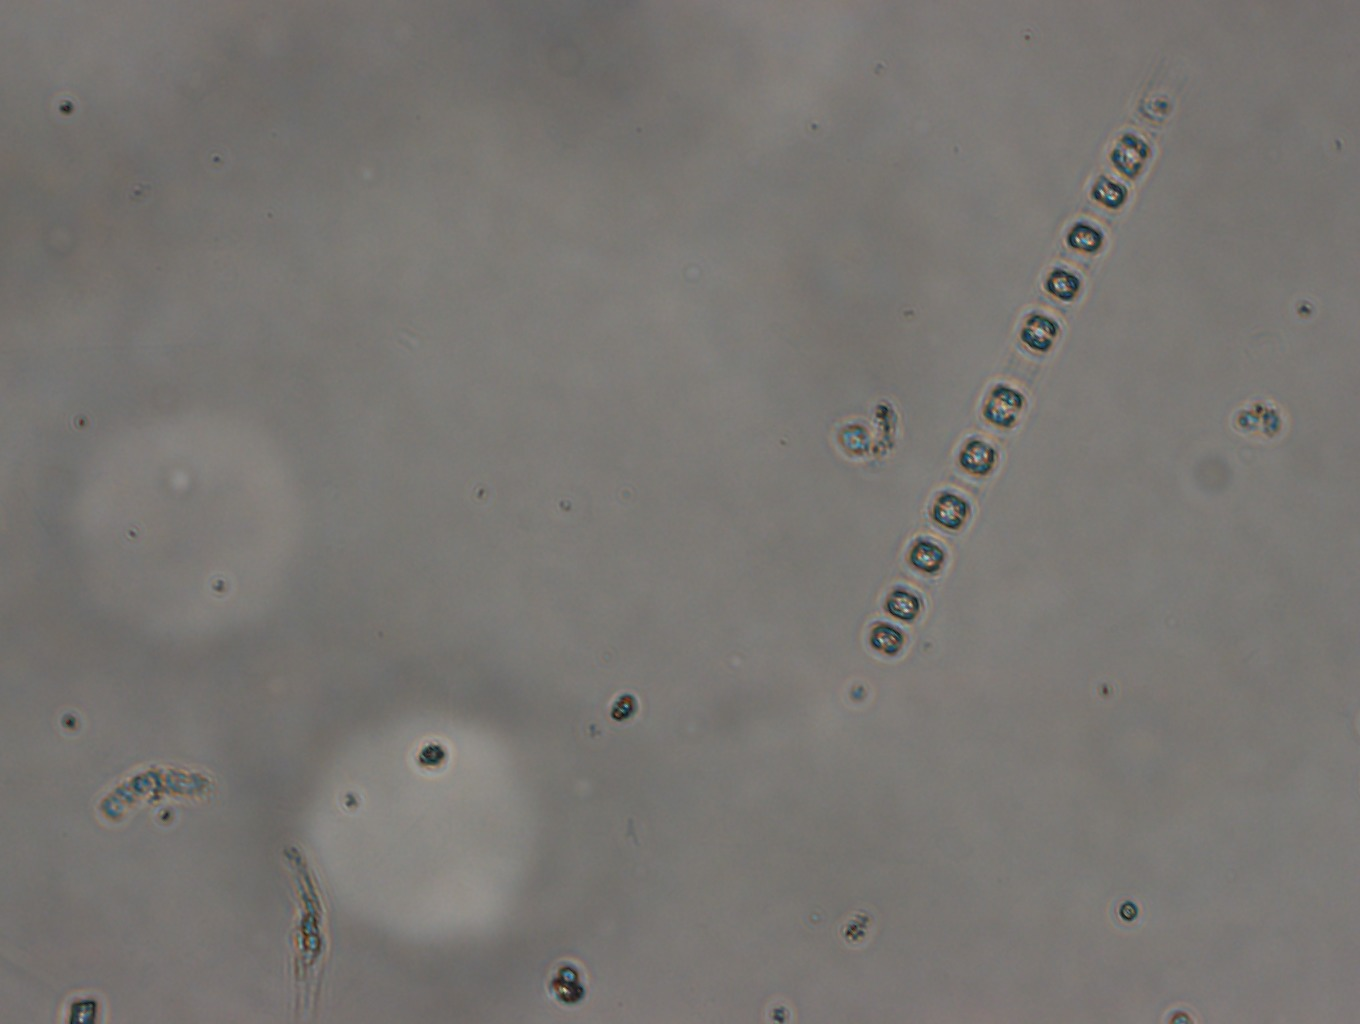skeletonema: (865, 87, 1188, 665)
